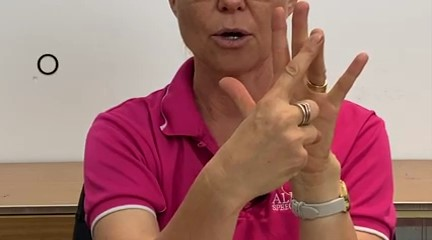O: (215, 1, 378, 205)
